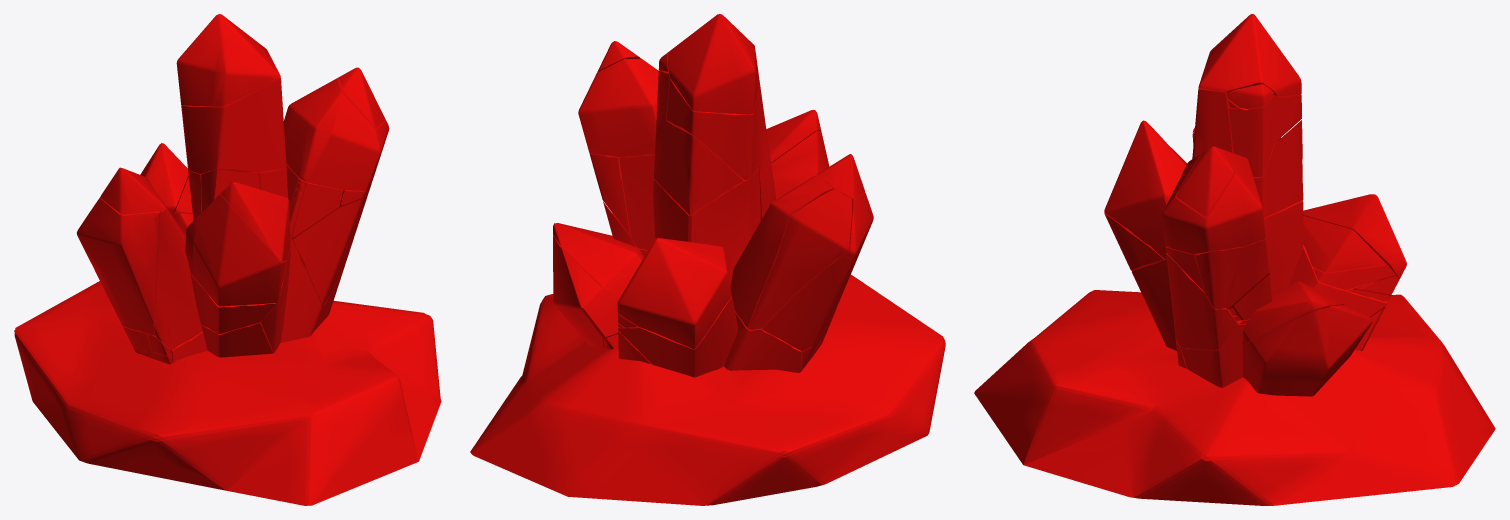
File: Crystal_Large_HP_Revision3.fbx
3 renders of one model, left to right at view 1: azimuth 30°, elevation 25°; view 2: azimuth 150°, elevation 25°; view 3: azimuth 270°, elevation 25°, orthographic. The views are drawn at different scales.
Visible parts, largest first — view 1: Crystal_HP_New (Large); view 2: Crystal_HP_New (Large); view 3: Crystal_HP_New (Large).
Boxes of the visible parts, x1=… form: Crystal_HP_New (Large): x1=14, y1=14, x2=441, y2=505; Crystal_HP_New (Large): x1=470, y1=14, x2=945, y2=505; Crystal_HP_New (Large): x1=974, y1=14, x2=1495, y2=505.
Bounding box in the file's own units: 18.73 × 19.35 × 22.56.
